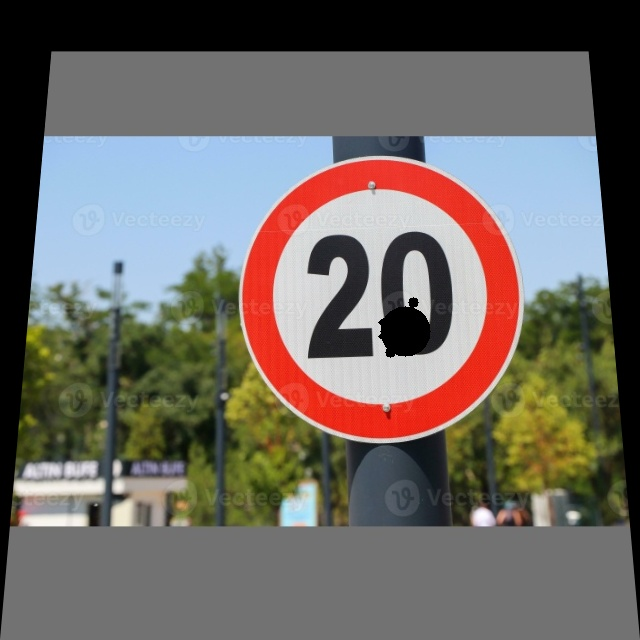Speed_Limit_20: (240, 152, 525, 430)
